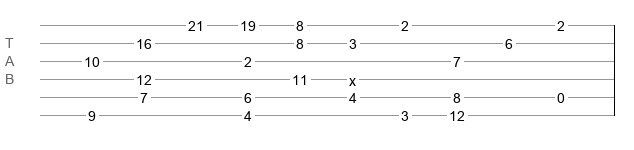0: (557, 90, 565, 100)
10: (84, 54, 100, 64)
11: (292, 72, 308, 82)
12: (136, 72, 152, 82), (449, 108, 465, 118)
16: (136, 36, 152, 46)
19: (240, 18, 256, 28)
2: (244, 54, 252, 64), (401, 18, 409, 28), (557, 18, 565, 28)
21: (188, 18, 204, 28)
3: (349, 36, 357, 46), (401, 108, 409, 118)
4: (244, 108, 252, 118), (349, 90, 357, 100)
6: (244, 90, 252, 100), (505, 36, 513, 46)
7: (140, 90, 148, 100), (453, 54, 461, 64)
8: (296, 18, 304, 28), (296, 36, 304, 46), (453, 90, 461, 100)
9: (88, 108, 96, 118)
x: (349, 73, 356, 81)
